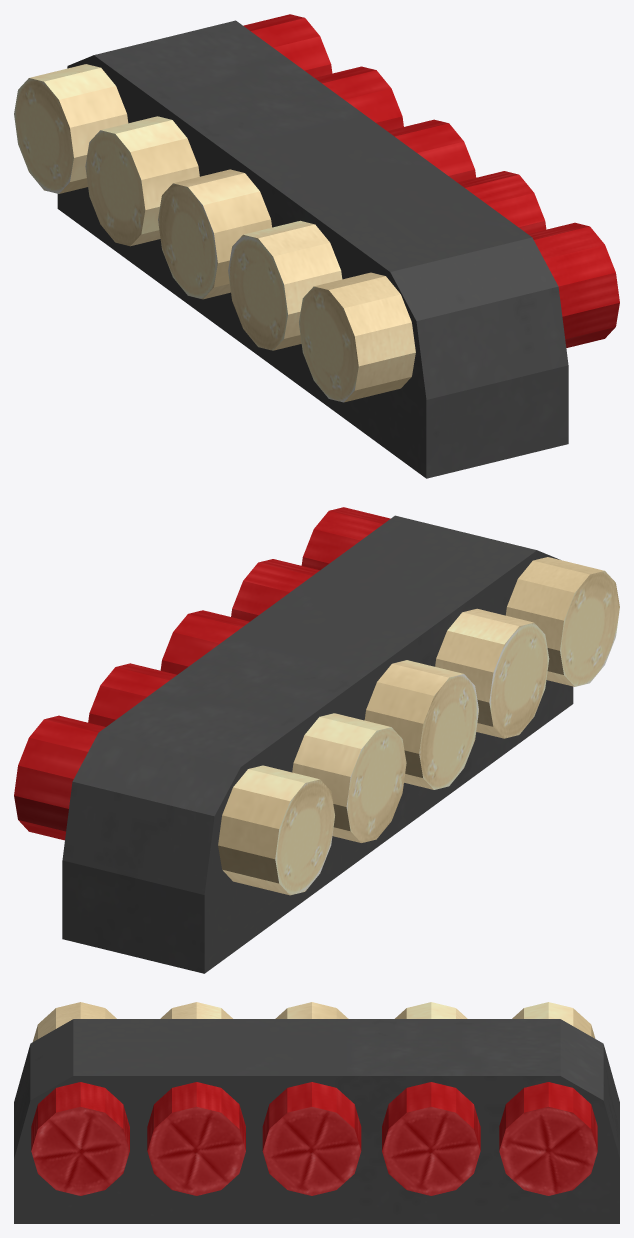
The model's file is shellholder_ground.fbx.
3 renders of one model, top to bottom at view 1: azimuth 30°, elevation 25°; view 2: azimuth 150°, elevation 25°; view 3: azimuth 270°, elevation 25°, orthographic. The views are drawn at different scales.
Parts seen in each view (by area): view 1: shellholderground_model; view 2: shellholderground_model; view 3: shellholderground_model.
Part boxes in pixels (x1=…): shellholderground_model: x1=14, y1=14, x2=619, y2=478; shellholderground_model: x1=14, y1=507, x2=619, y2=973; shellholderground_model: x1=14, y1=1002, x2=619, y2=1223.
Size of the model in its own units: 0.0357 by 0.0235 by 0.0873.
